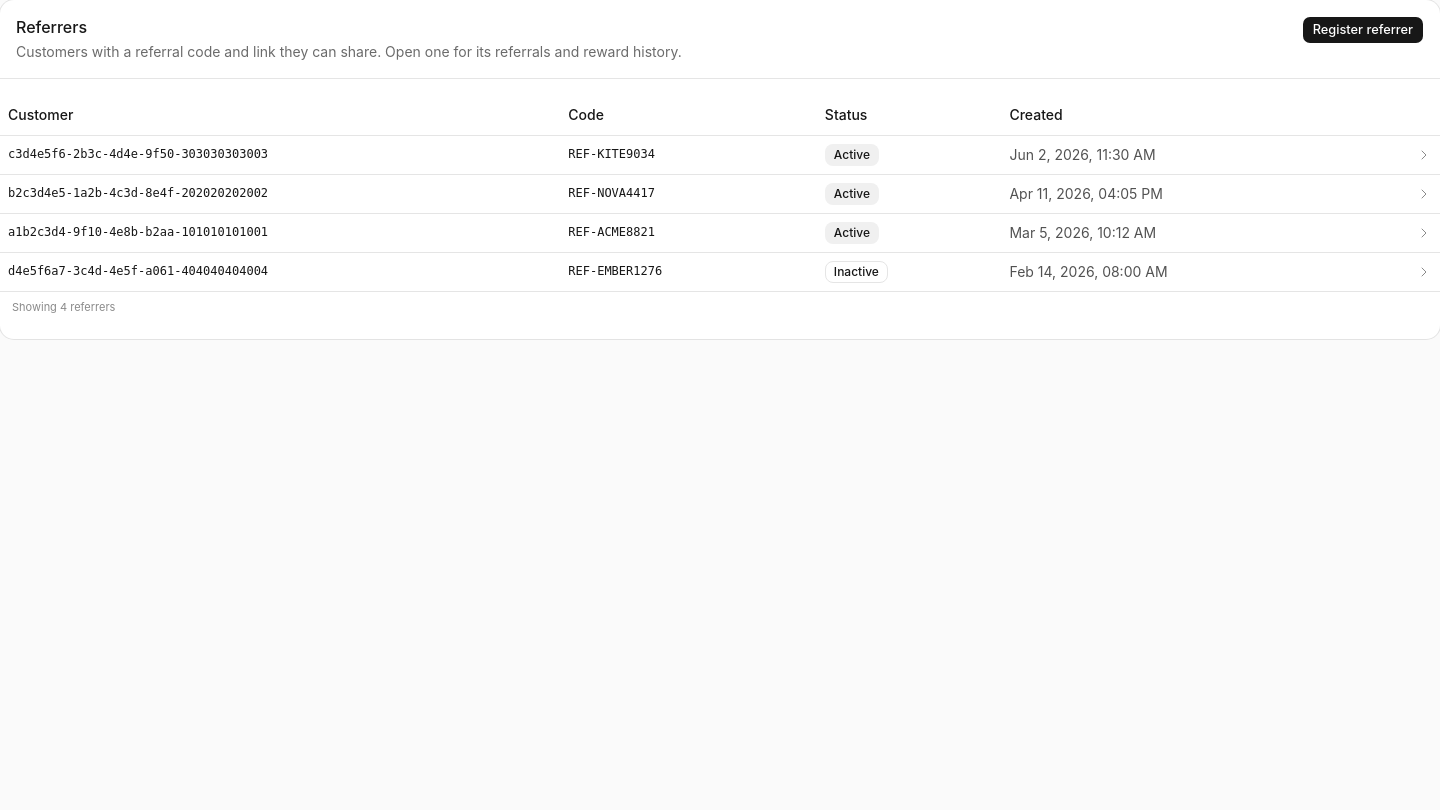
Test case: ReferrersSection — register referrer mutation flow › keeps input and shows the problem near the submit on a conflict
Expected: the text "REF-ACME8821" is shown, [560,213,817,252]
Click the button "Register referrer": (1363, 30) [1302,16,1424,44]
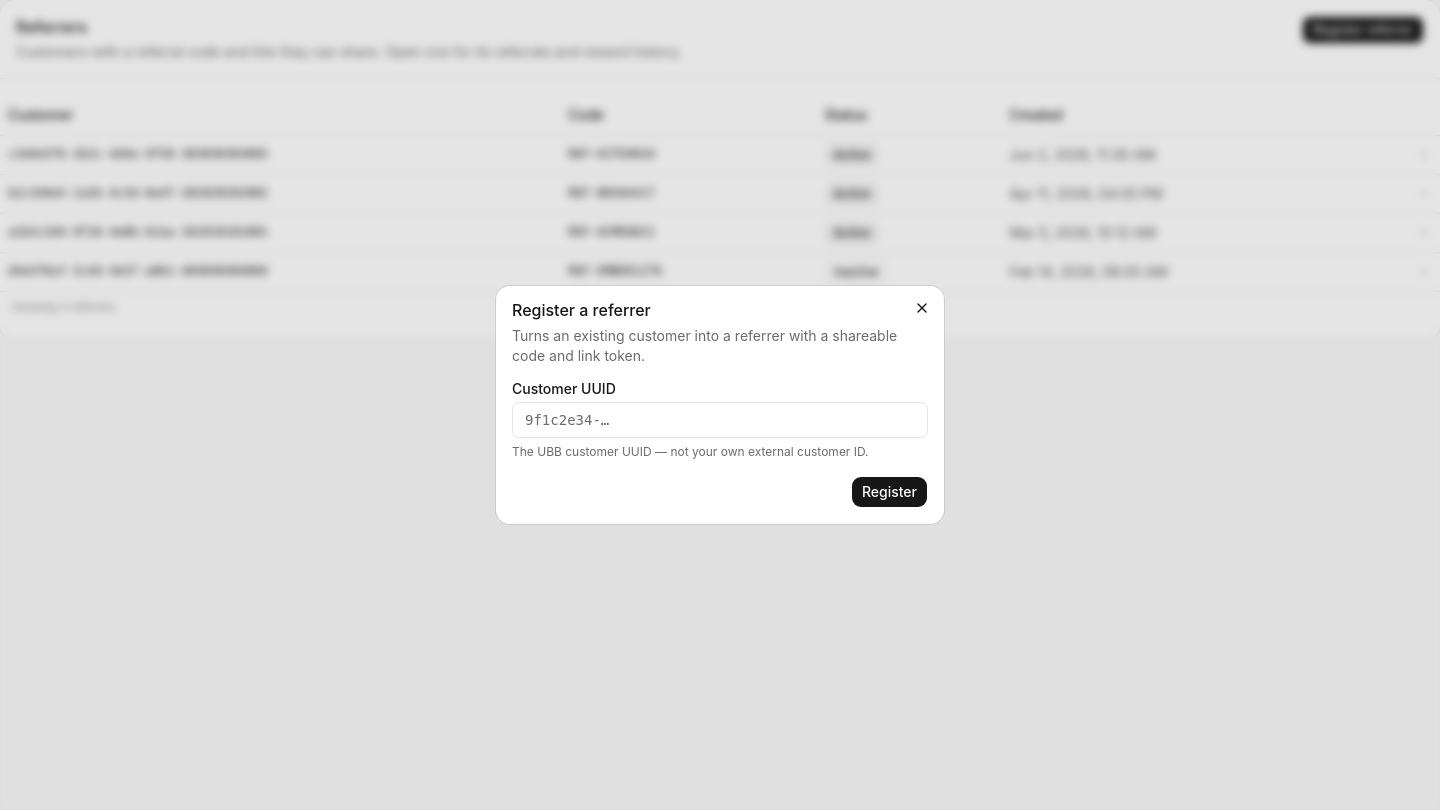
In the field labelled "Customer UUID": (720, 420) [512,402,928,438], type "a1b2c3d4-9f10-4e8b-b2aa-101010101001"
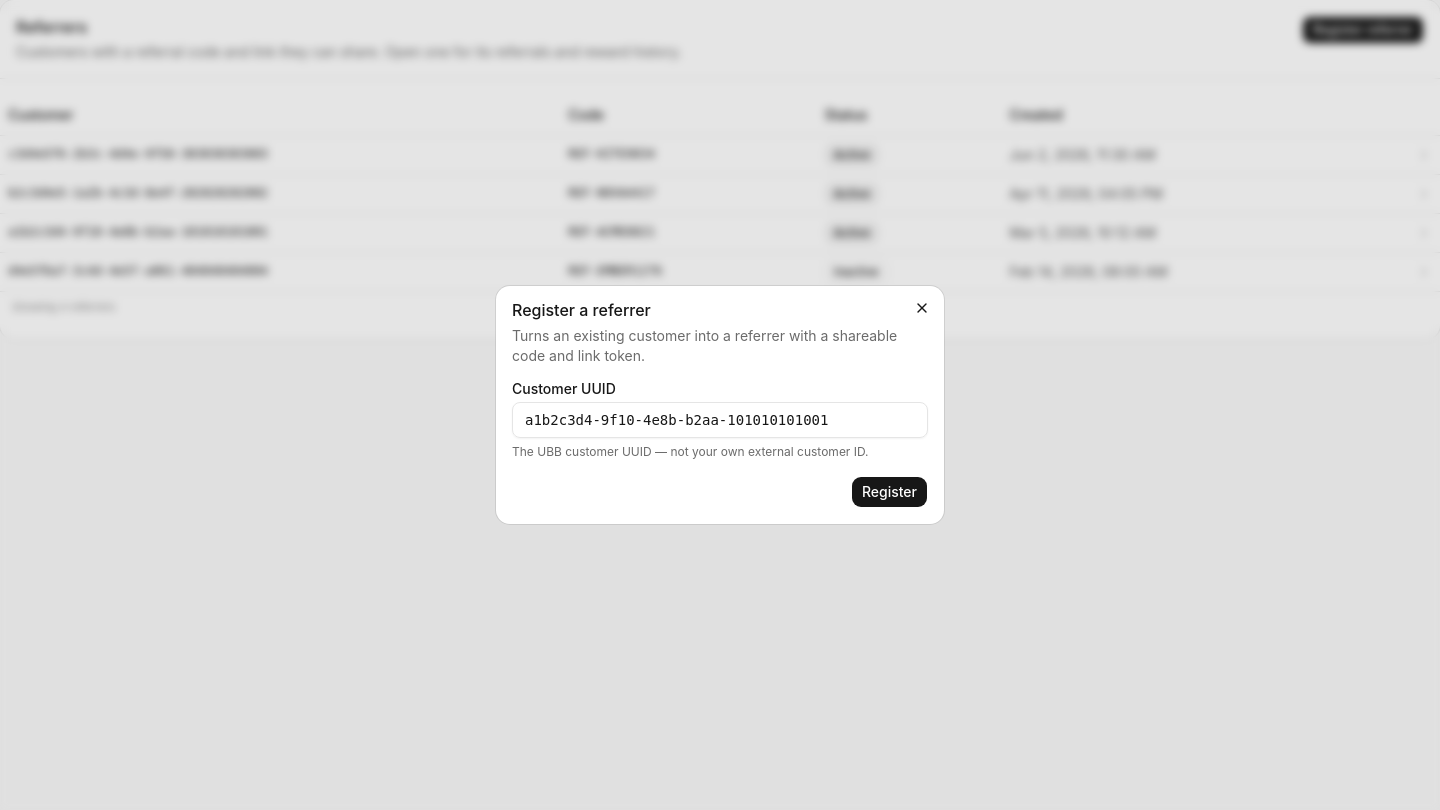
Click the button "Register": (889, 492) [851,476,928,508]
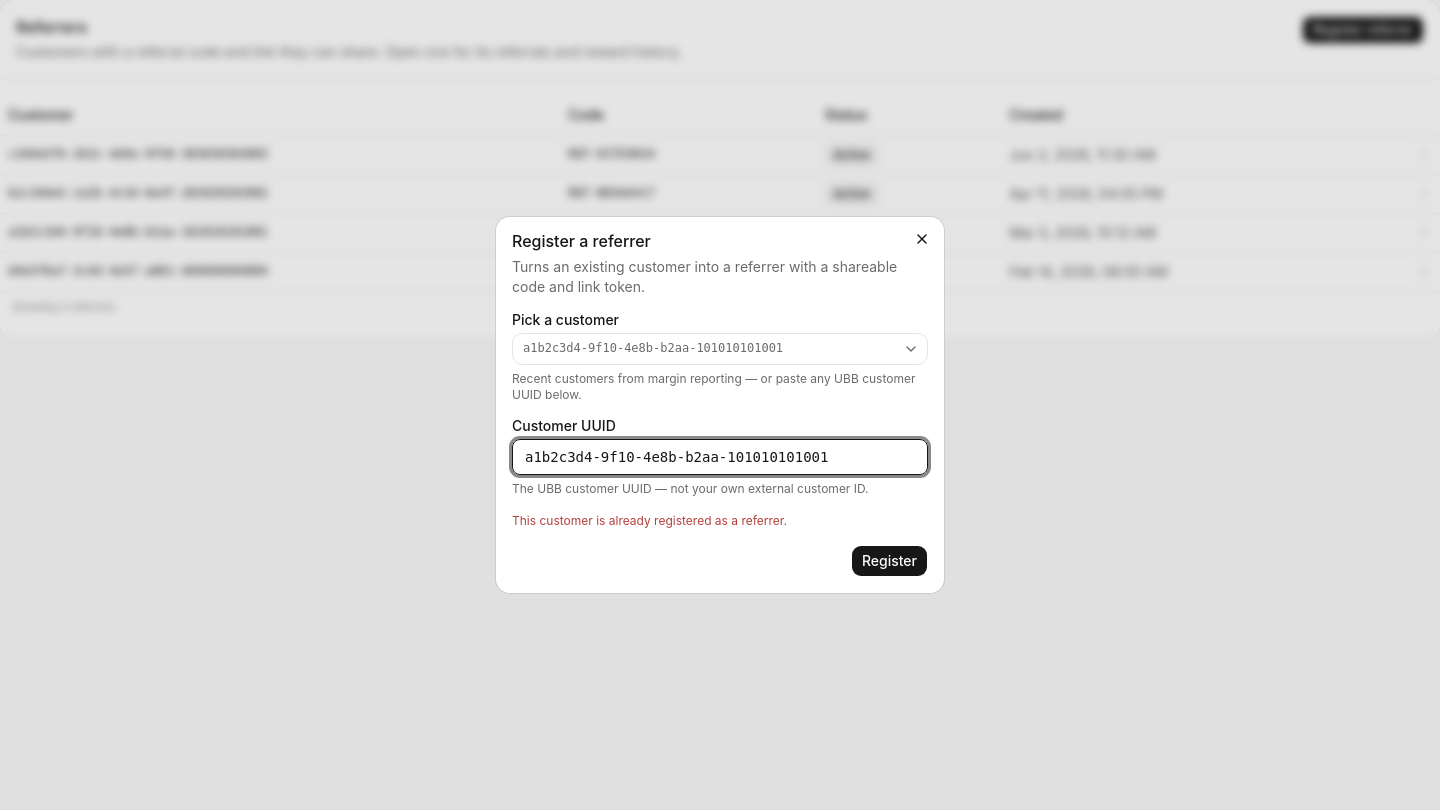
Expected: the text "This customer is already registered as a referrer." is shown, [512,513,787,528]
